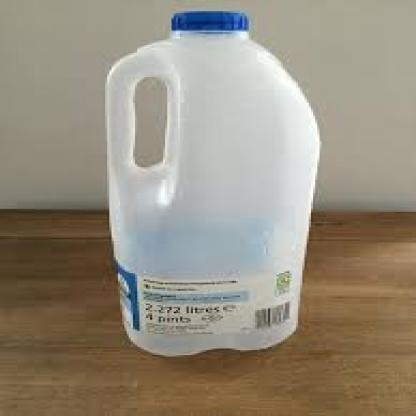trash: (106, 11, 319, 355)
